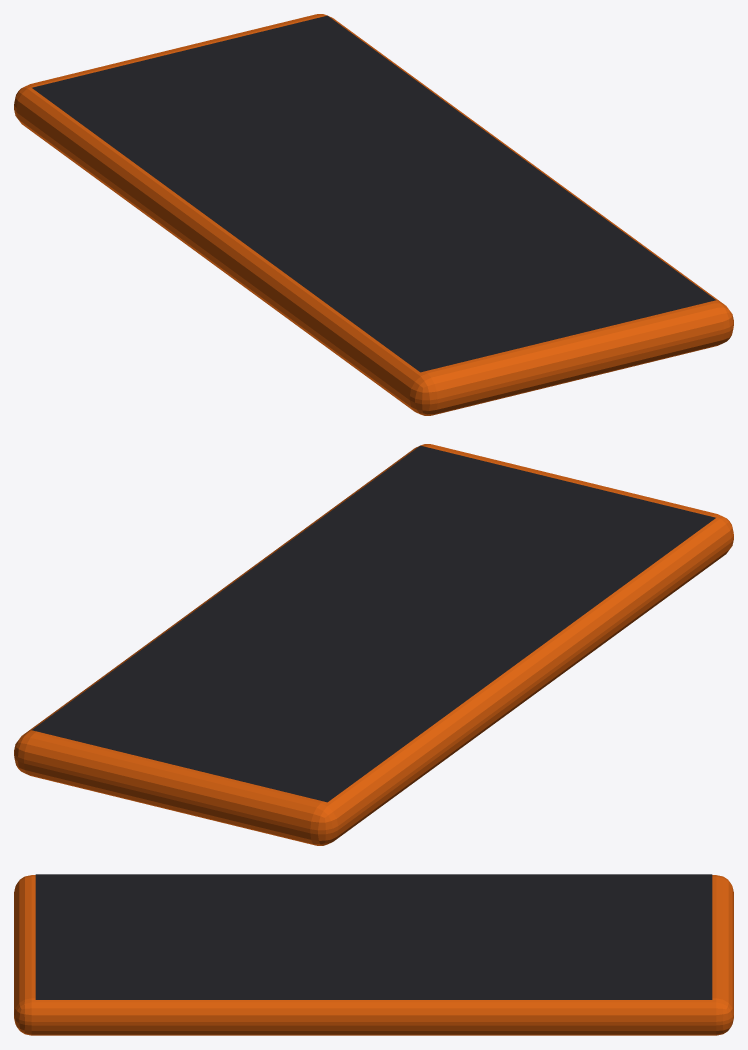
The model's file is oppo-find-x-model-315-flagship-2023.glb.
3 renders of one model, top to bottom at view 1: azimuth 30°, elevation 25°; view 2: azimuth 150°, elevation 25°; view 3: azimuth 270°, elevation 25°, orthographic. The views are drawn at different scales.
Parts seen in each view (by area): view 1: Phone_Screen, Phone_Body; view 2: Phone_Screen, Phone_Body; view 3: Phone_Screen, Phone_Body.
Part boxes in pixels (x1,y1,x2,y2): Phone_Screen: [32, 15, 715, 372]; Phone_Body: [14, 14, 733, 415]; Phone_Screen: [32, 445, 715, 802]; Phone_Body: [14, 444, 733, 845]; Phone_Screen: [35, 874, 712, 999]; Phone_Body: [14, 875, 733, 1035].
Size of the model in its own units: 0.0722 by 0.0089 by 0.1608.
